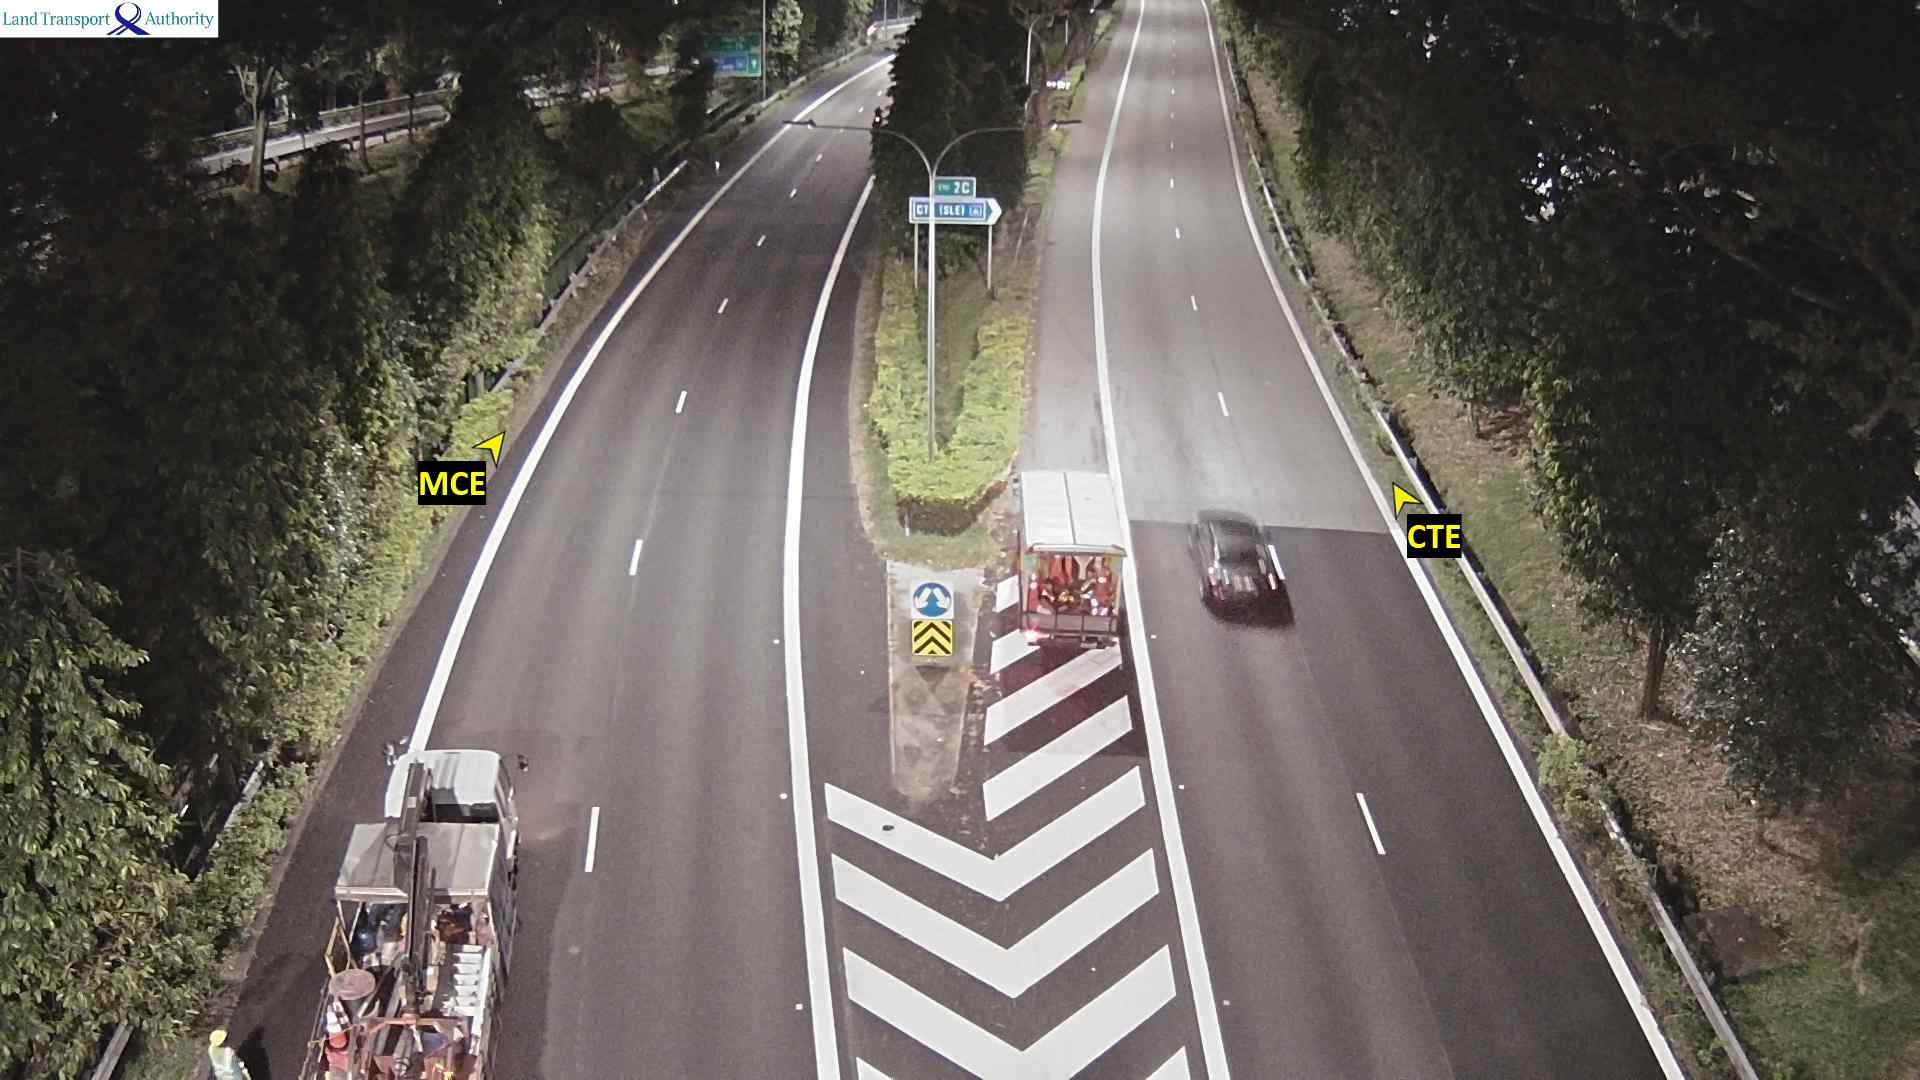cars: (1187, 506, 1286, 614)
trucks: (296, 741, 525, 1077), (1014, 468, 1127, 649)
